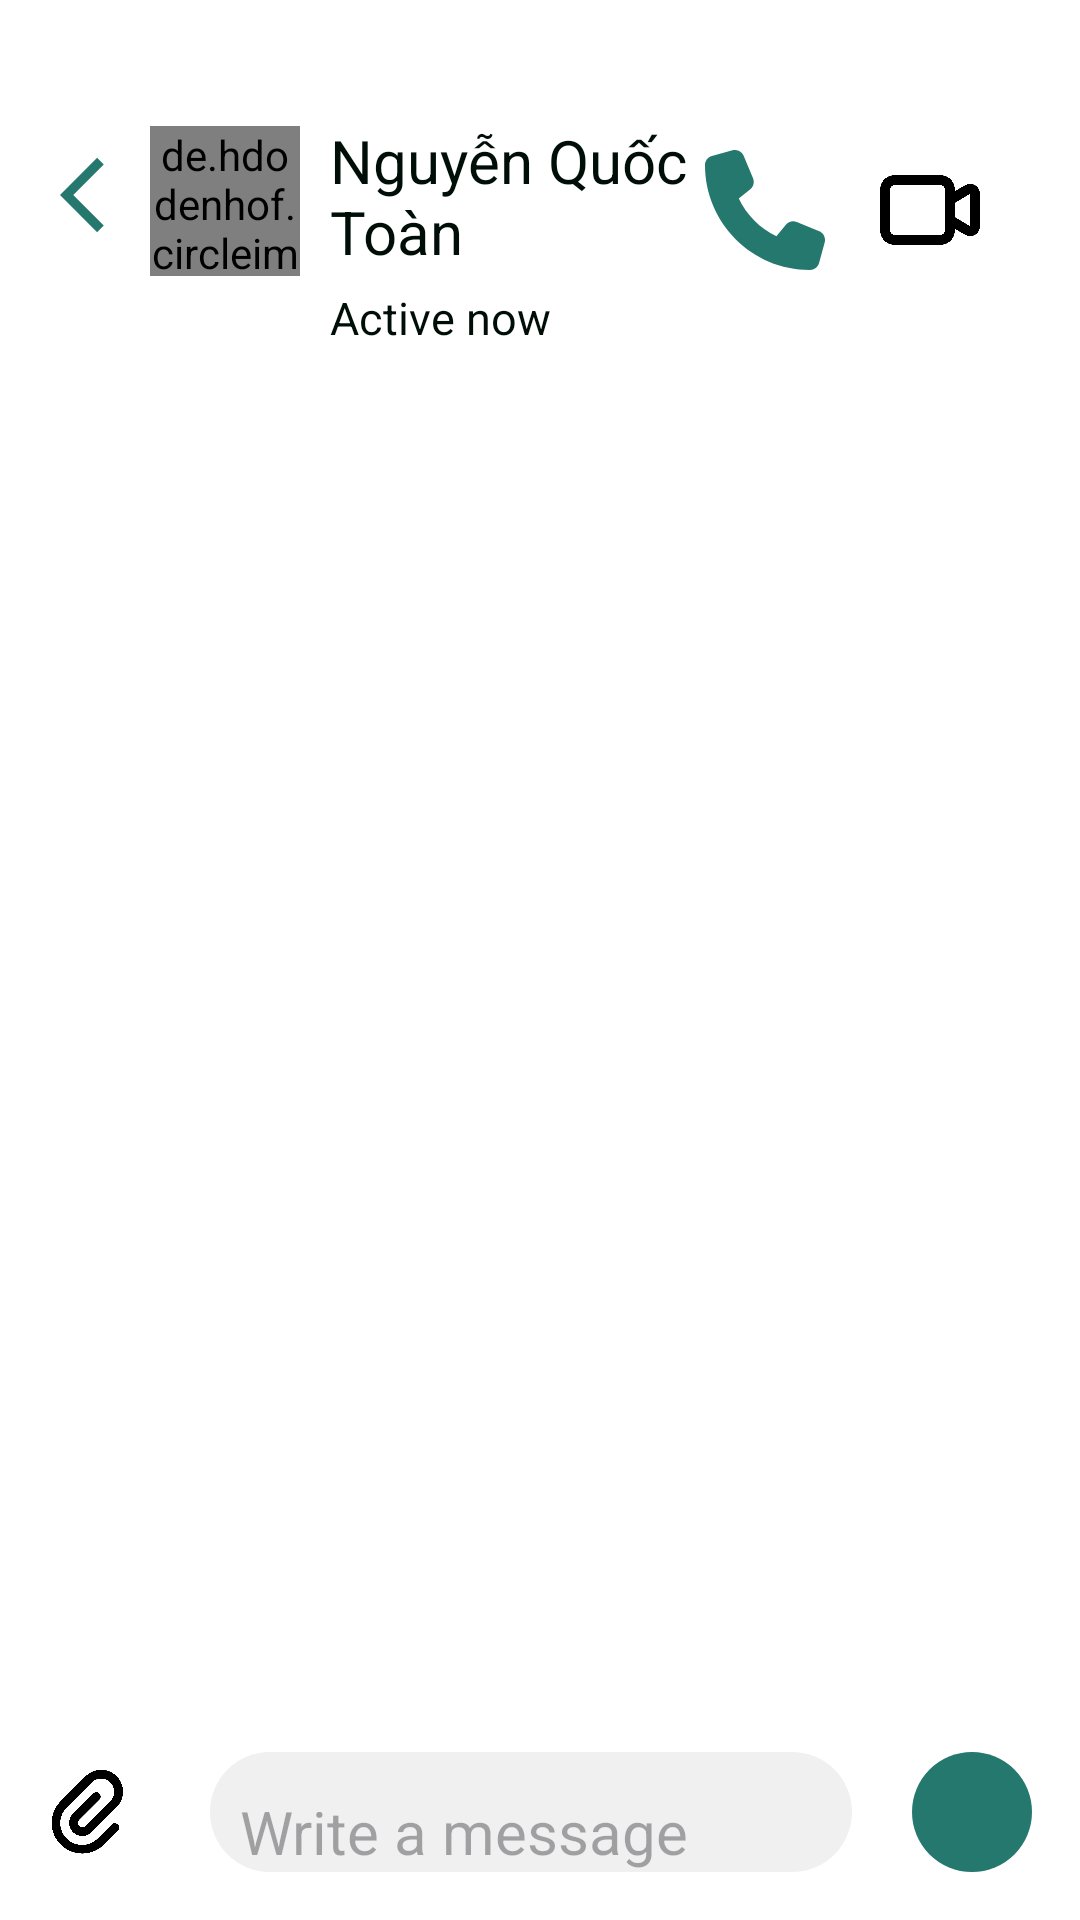

Screen size 1080*1920. Icon name, then its center in pixels as [x,y]:
attach: [87,1812]
back: [82,195]
call: [765,210]
video call: [930,210]
